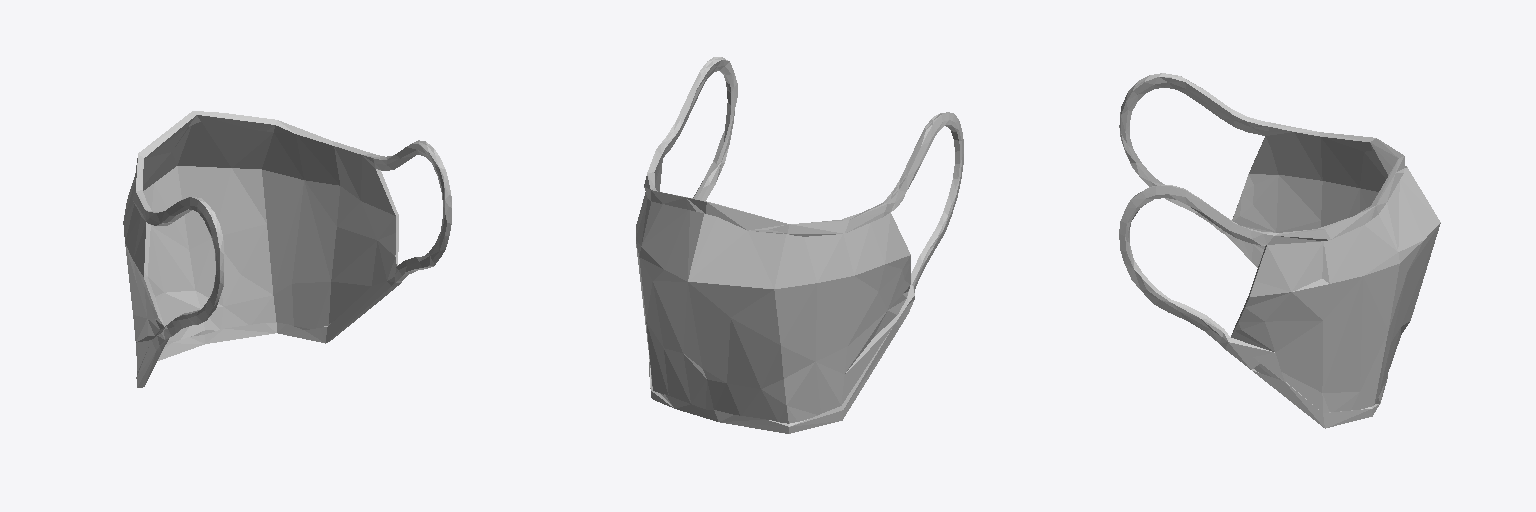
File: ts_mask.obj
3 renders of one model, left to right at view 1: azimuth 30°, elevation 25°; view 2: azimuth 150°, elevation 25°; view 3: azimuth 270°, elevation 25°, orthographic.
Size of the model in its own units: 0.1426 by 0.1354 by 0.1558.